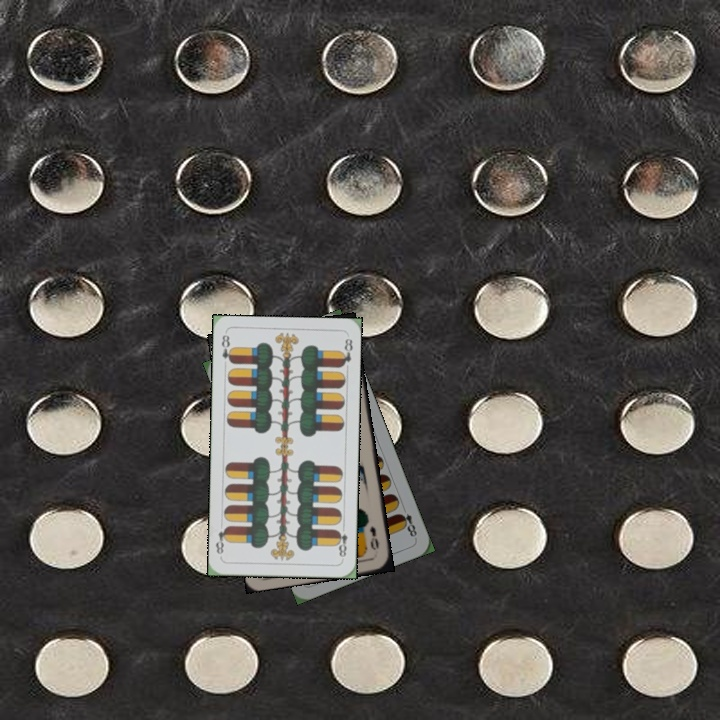E8: (395, 502, 420, 541), (332, 521, 350, 559), (218, 331, 235, 371)
EO: (366, 522, 381, 552)
